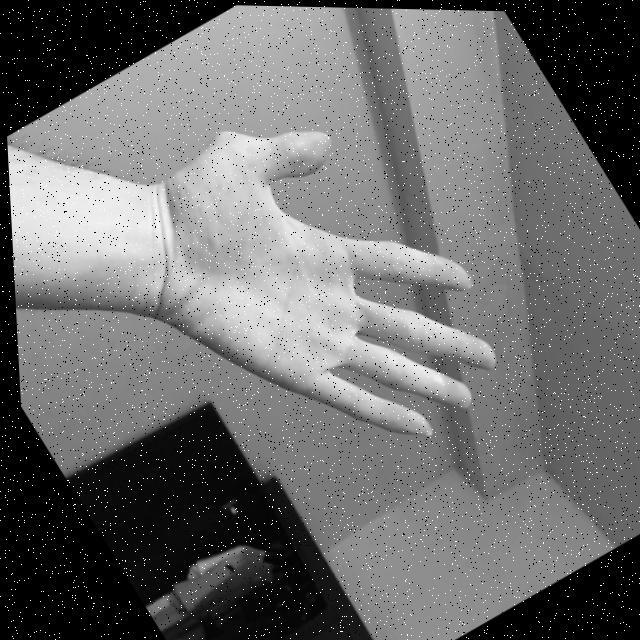no-gloves: (73, 48, 535, 523)
